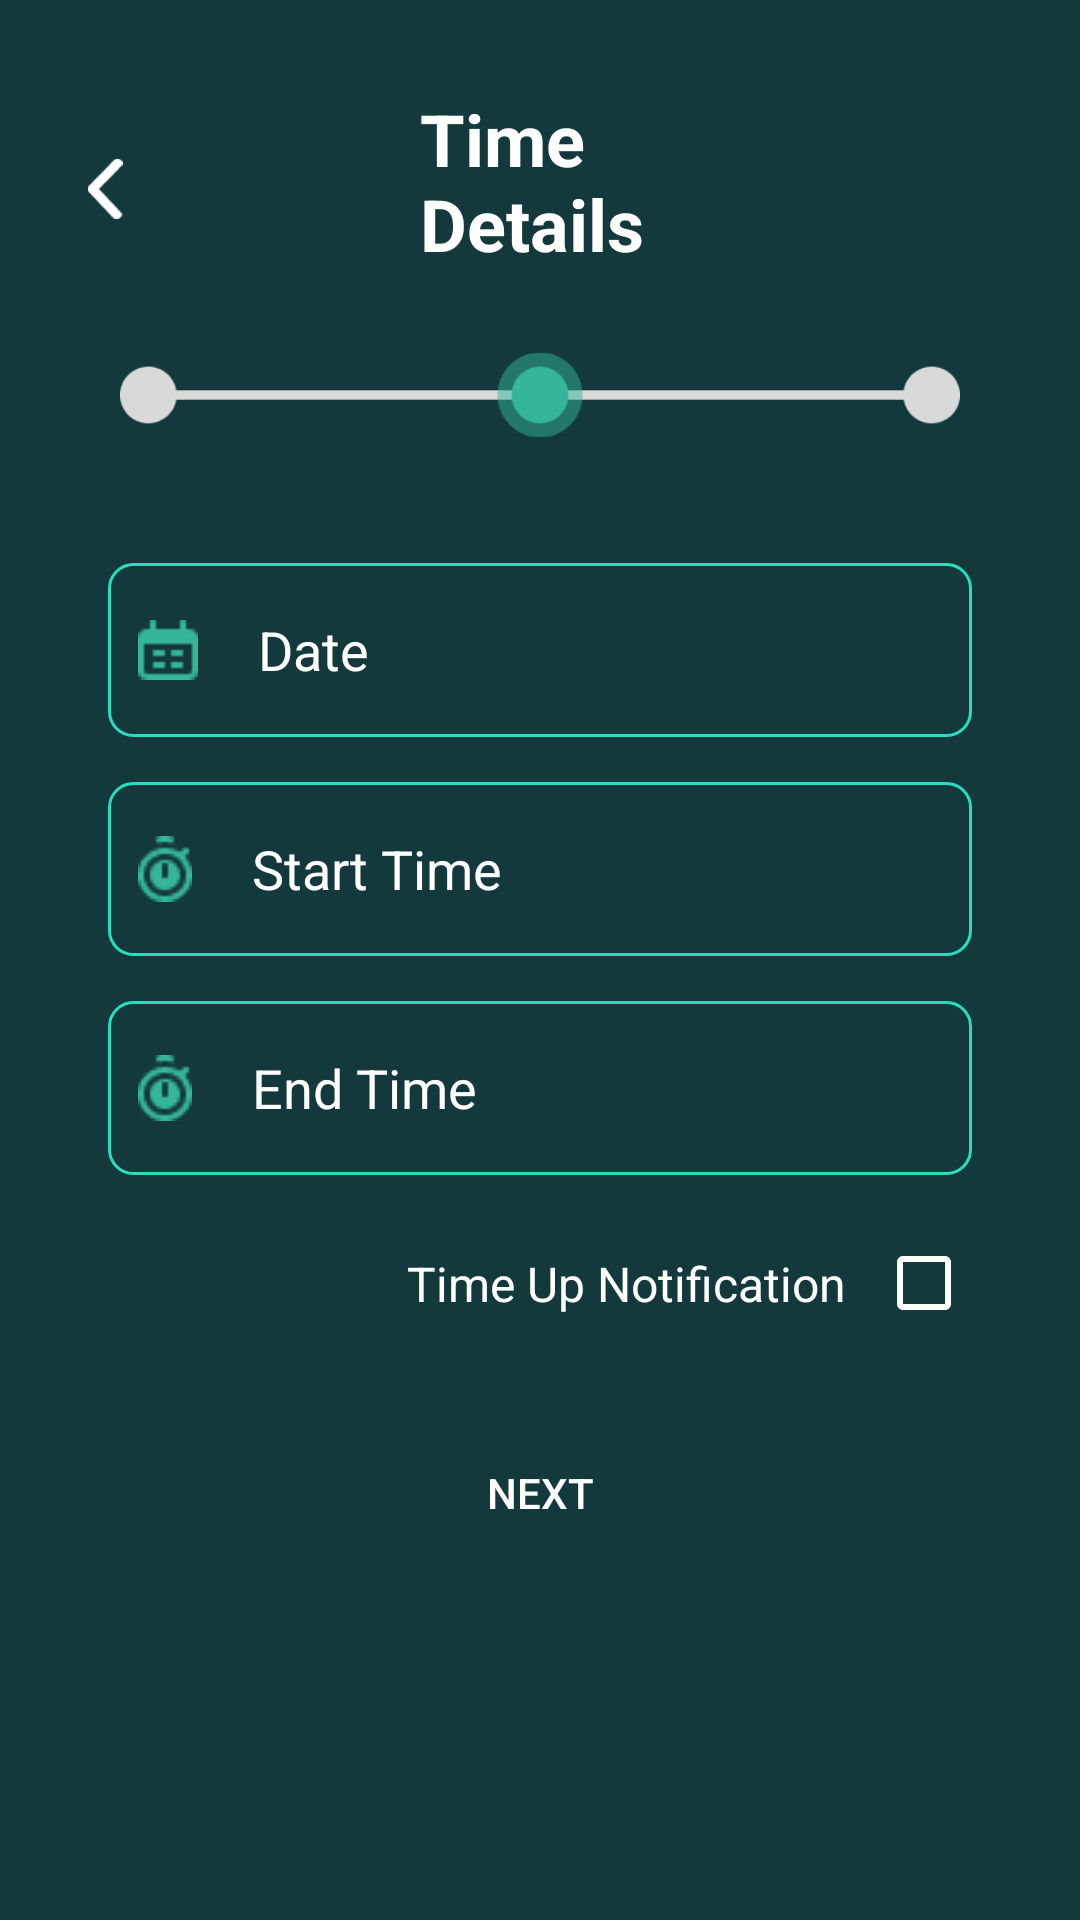

Icons on this 1080×1920 Android screen, each with its box as region(x1, y1, x2, y2):
upscaledarrow: region(88, 159, 123, 219)
